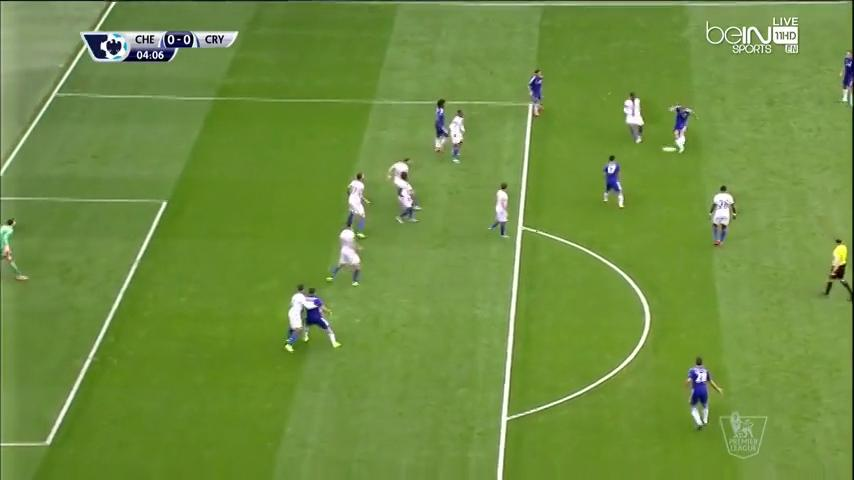football: (661, 144, 677, 154)
